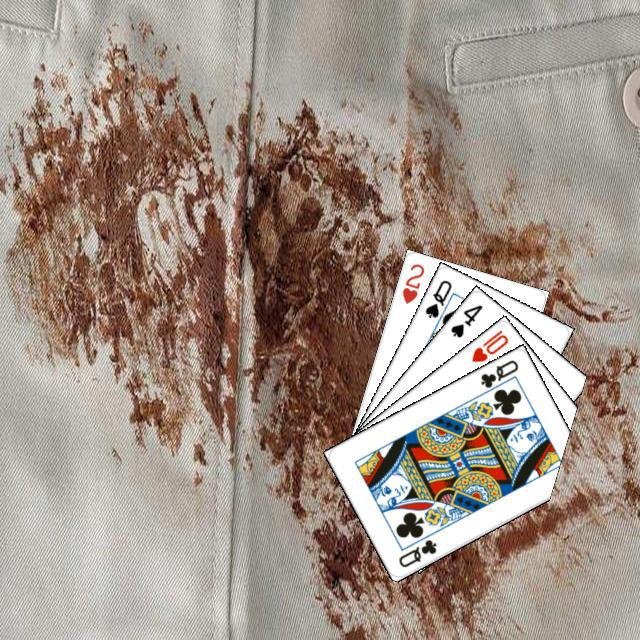10h: (466, 325, 510, 364)
2h: (397, 258, 426, 305)
4s: (446, 300, 484, 340)
Qc: (475, 355, 520, 397), (393, 534, 439, 569)
Qs: (420, 275, 454, 320)
